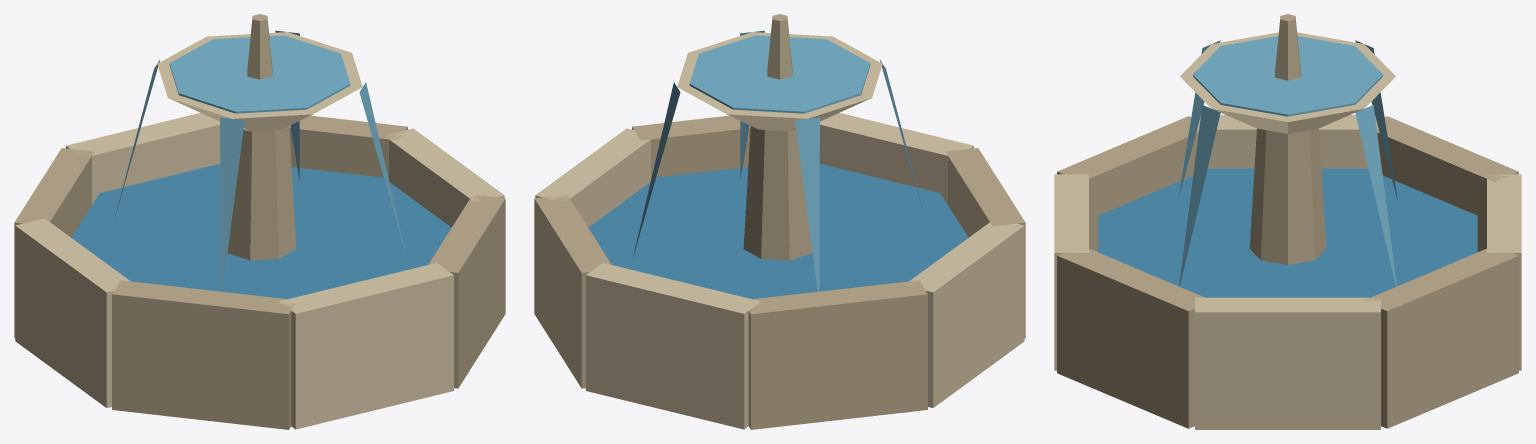
Rendered from fountain.glb.
The picture shows the model from 3 angles, left to right: view 1: azimuth 30°, elevation 25°; view 2: azimuth 150°, elevation 25°; view 3: azimuth 270°, elevation 25°; orthographic projection.
Visible parts, largest first — view 1: fountain2; view 2: fountain2; view 3: fountain2.
Boxes of the visible parts, x1,y1,x2,y2 form: fountain2: [14, 14, 505, 429]; fountain2: [534, 14, 1025, 429]; fountain2: [1054, 14, 1521, 429].
Size of the model in its own units: 3.24 by 2.4 by 3.24.
